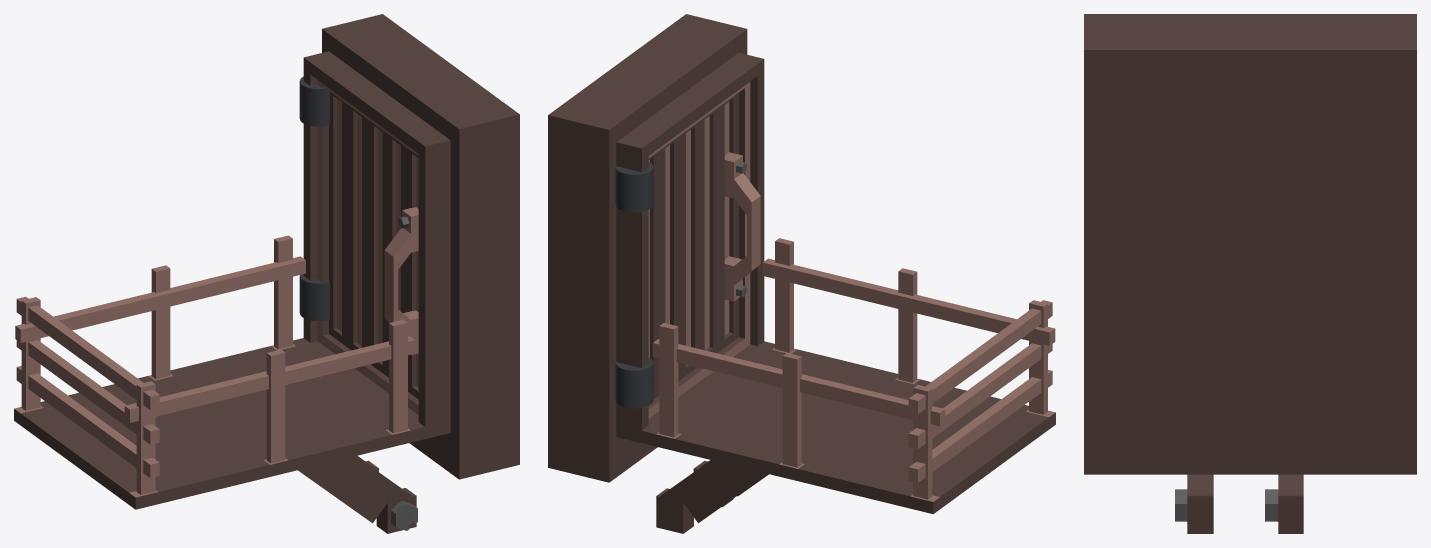
Rendered from ShipTower.fbx.
3 views of the same model, side by side, from view 1: azimuth 30°, elevation 25°; view 2: azimuth 150°, elevation 25°; view 3: azimuth 270°, elevation 25° (orthographic). The views are drawn at different scales.
Visible parts, largest first — view 1: Model; view 2: Model; view 3: Model.
Boxes of the visible parts, left/top/right/bottom form: Model: left=14, top=14, right=519, bottom=533; Model: left=548, top=14, right=1055, bottom=533; Model: left=1084, top=14, right=1416, bottom=533.
Size of the model in its own units: 309 by 334 by 194.
